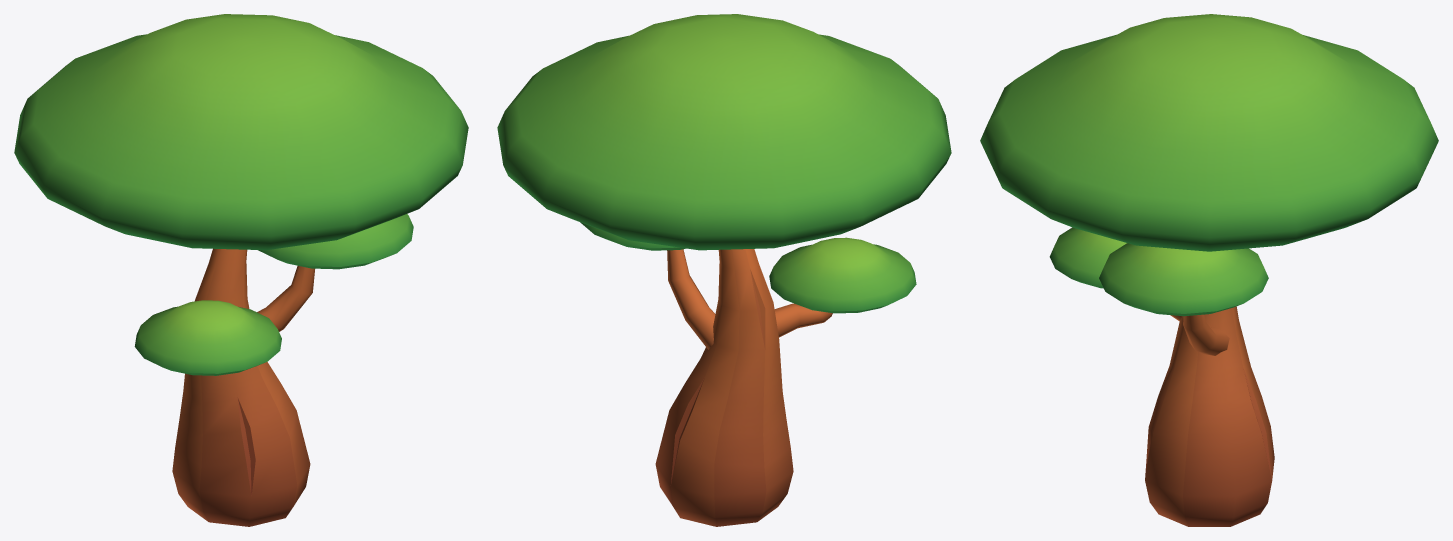
Rendered from Tree_3_A_Color1.gltf.
The picture shows the model from 3 angles, left to right: view 1: azimuth 30°, elevation 25°; view 2: azimuth 150°, elevation 25°; view 3: azimuth 270°, elevation 25°; orthographic projection.
Parts seen in each view (by area): view 1: Tree_3_A_Color1; view 2: Tree_3_A_Color1; view 3: Tree_3_A_Color1.
Part boxes in pixels (x1=…): Tree_3_A_Color1: x1=14, y1=14, x2=468, y2=526; Tree_3_A_Color1: x1=497, y1=14, x2=951, y2=526; Tree_3_A_Color1: x1=980, y1=14, x2=1438, y2=526.
Bounding box in the file's own units: 3.09 × 3.51 × 3.09.
1 material, 1 textured.
